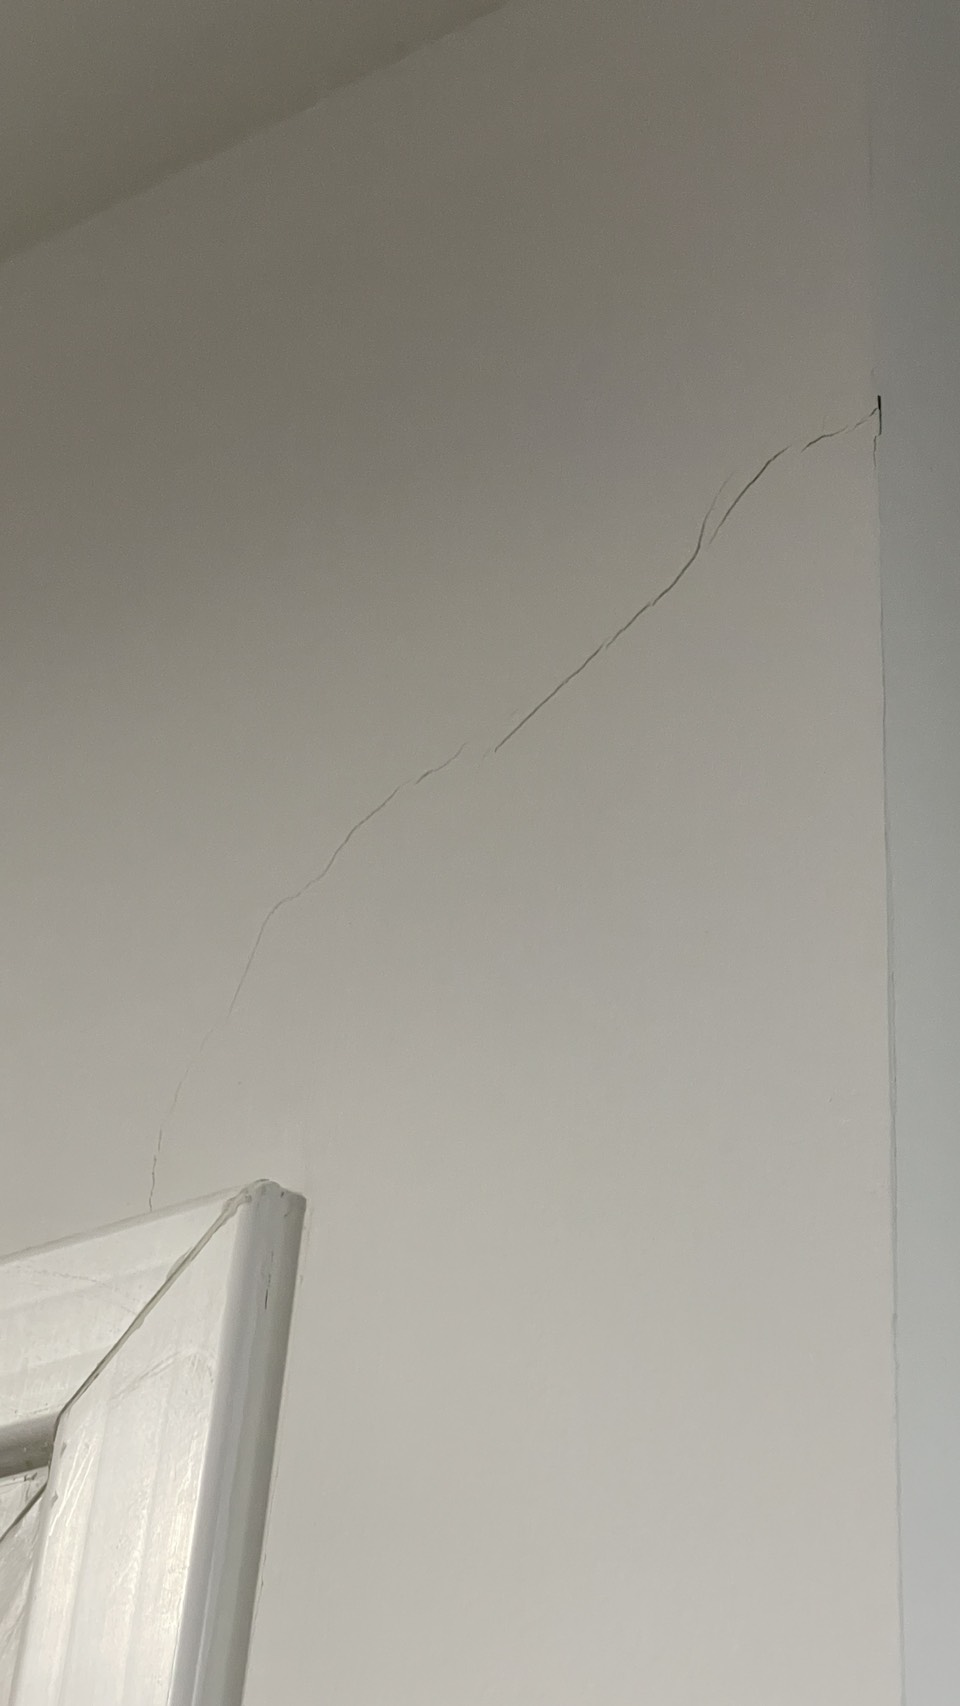Low: (125, 356, 937, 1215)
